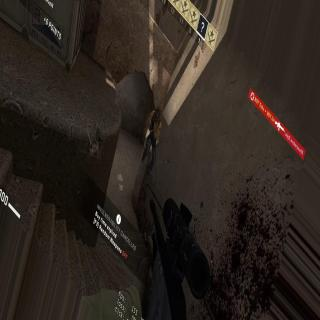T-Body: (140, 102, 165, 182)
T-Head: (155, 106, 161, 120)
